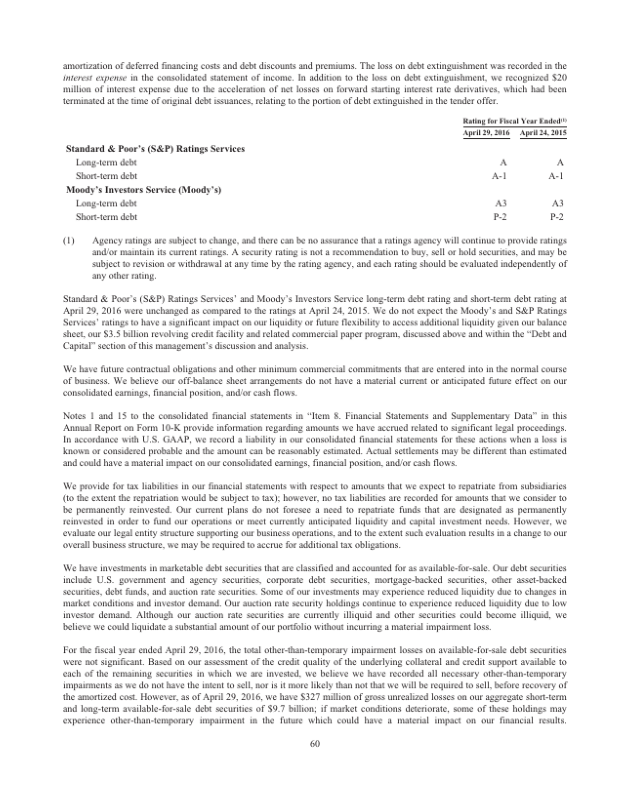table: (458, 116, 567, 225)
